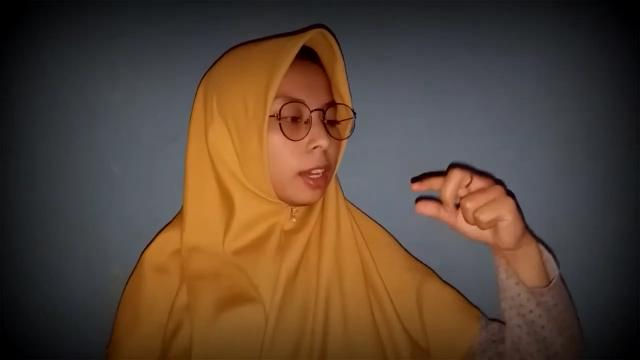G: (408, 164, 526, 252)
